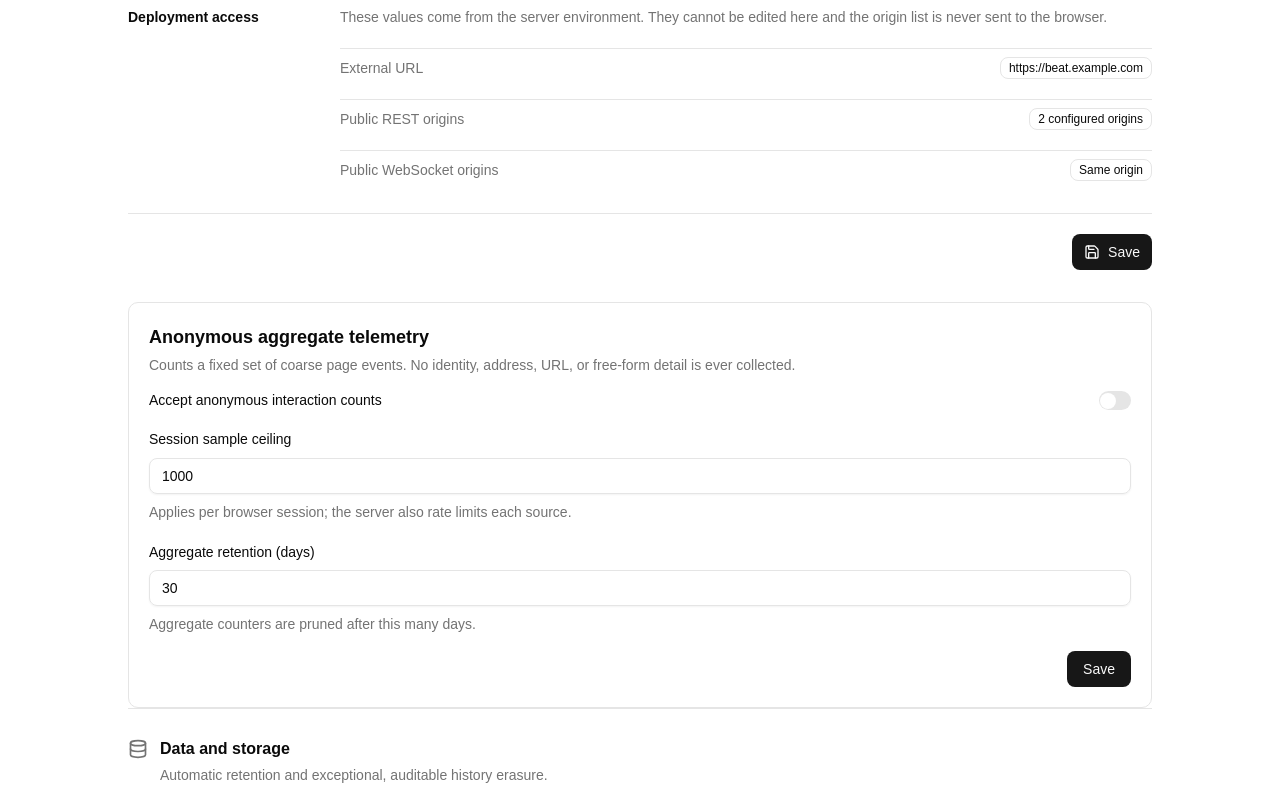
Scenario: admin site settings › keeps the anonymous telemetry policy owner-owned and readable
The image size is (1280, 793).
(page scrolled)
expect the heading "Anonymous aggregate telemetry" is shown: met, box [149,327,429,347]
expect the number field labelled "Session sample ceiling" holds "1000": met, box [149,458,1131,494]
Click the switch named "Accept anonymous interaction counts" at (1115, 401), box [1099,391,1131,410]
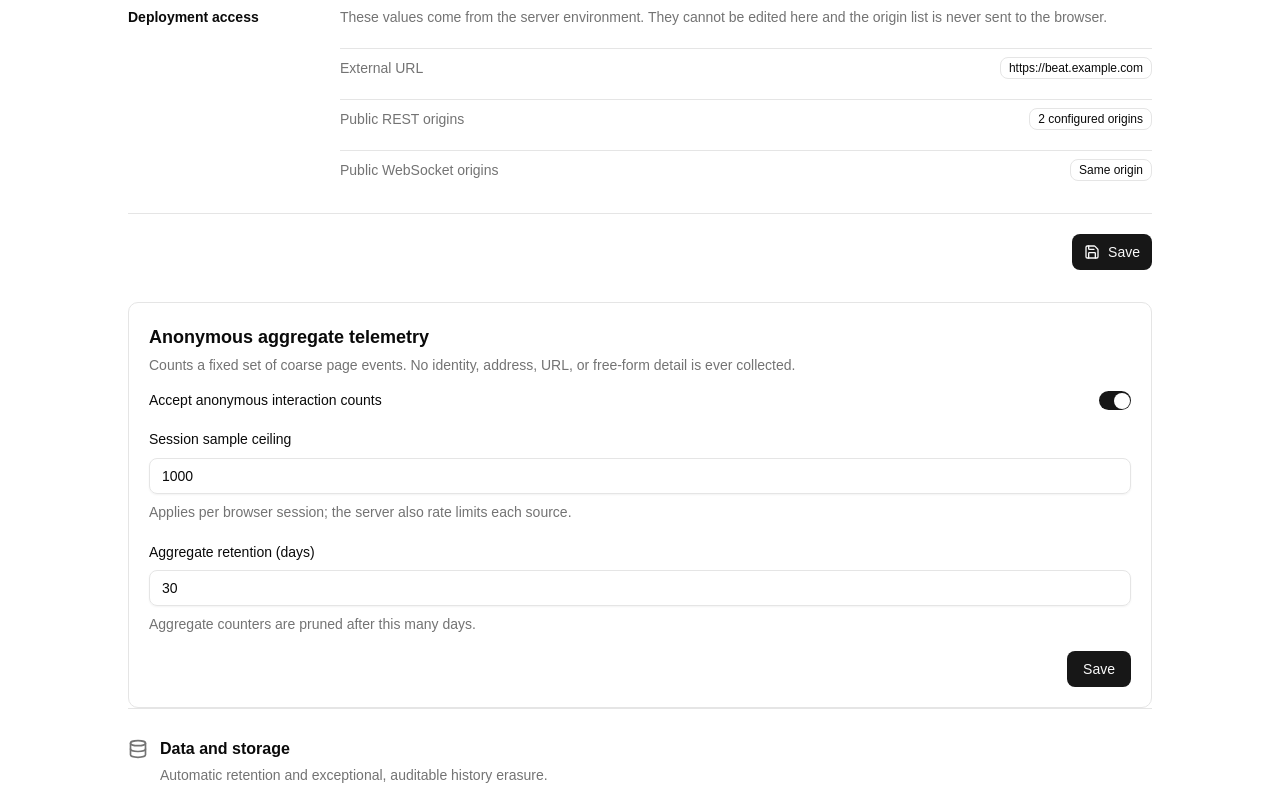
Click the button with aria-label "Save public telemetry policy" at (1099, 669), box [1067,651,1131,687]
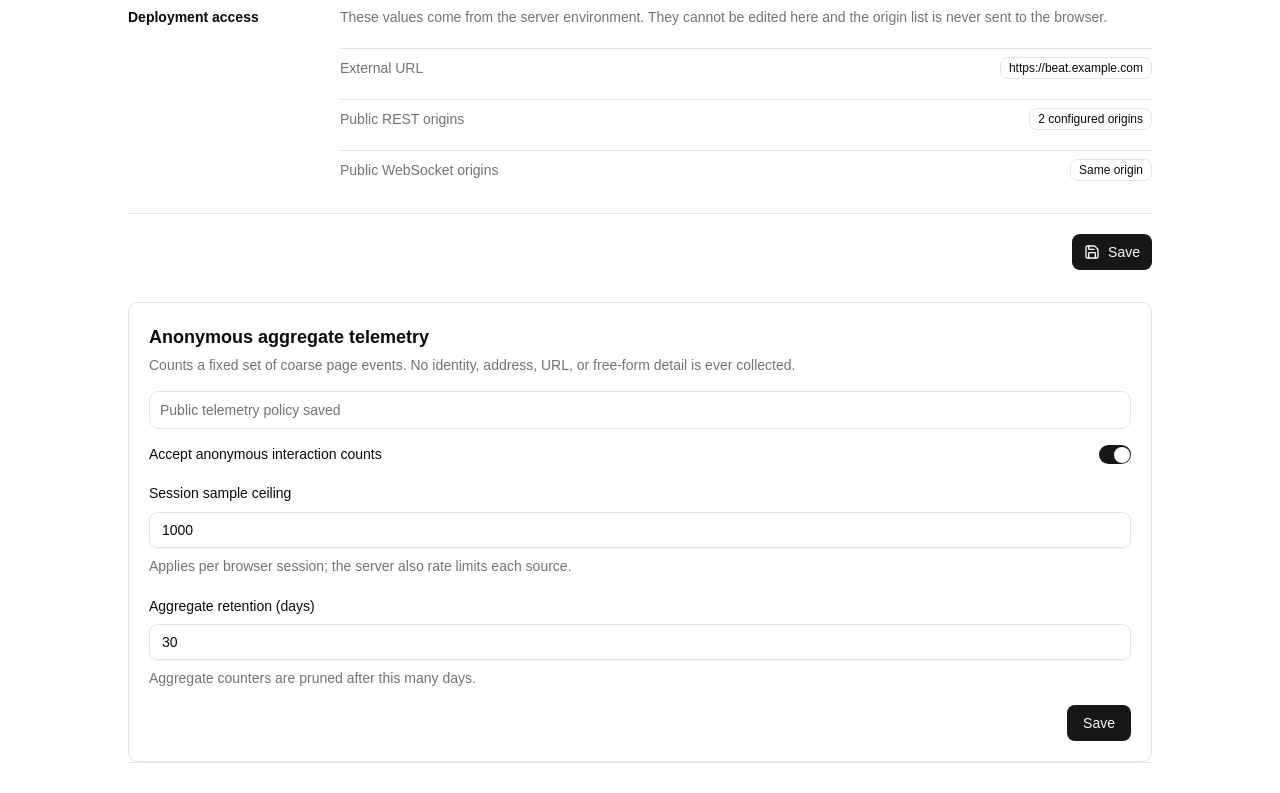
expect the text "Public telemetry policy saved" is shown: met, box [160,402,340,418]
